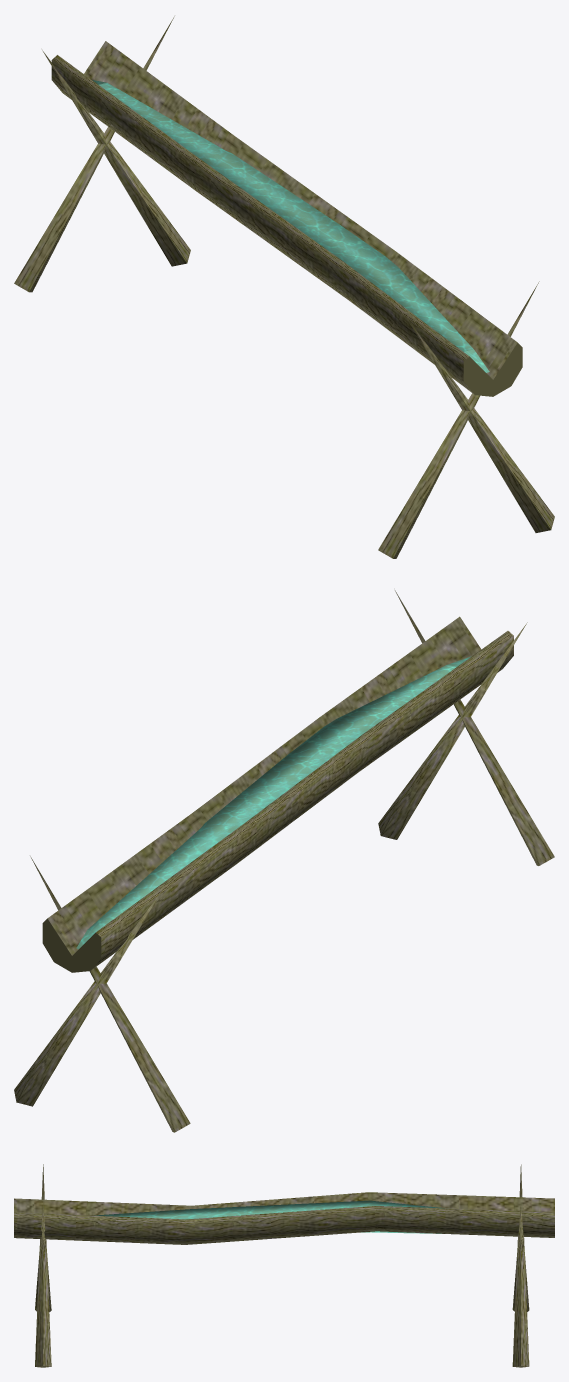
Rendered from waterpipe_full.obj.
The picture shows the model from 3 angles, top to bottom: view 1: azimuth 30°, elevation 25°; view 2: azimuth 150°, elevation 25°; view 3: azimuth 270°, elevation 25°; orthographic projection. The views are drawn at different scales.
Parts seen in each view (by area): view 1: Cylinder04, Cylinder05, Duplicate02, Box01, Duplicate01; view 2: Cylinder04, Cylinder05, Duplicate02, Box01, Duplicate01; view 3: Cylinder04, Cylinder05, Duplicate02, Box01, Duplicate01.
Part boxes in pixels (left/top/right/bottom): Cylinder04: left=51, top=41, right=522, bottom=396; Cylinder05: left=92, top=80, right=489, bottom=372; Duplicate02: left=378, top=281, right=554, bottom=558; Box01: left=42, top=50, right=190, bottom=266; Duplicate01: left=14, top=16, right=174, bottom=292; Cylinder04: left=42, top=616, right=513, bottom=972; Cylinder05: left=76, top=656, right=471, bottom=949; Duplicate02: left=378, top=590, right=554, bottom=865; Box01: left=14, top=889, right=162, bottom=1106; Duplicate01: left=30, top=856, right=190, bottom=1132; Cylinder04: left=14, top=1192, right=554, bottom=1244; Cylinder05: left=94, top=1200, right=444, bottom=1233; Duplicate02: left=35, top=1164, right=51, bottom=1367; Box01: left=512, top=1164, right=529, bottom=1367; Duplicate01: left=512, top=1205, right=529, bottom=1311.
Bounding box in the file's own units: 14.3 × 19.47 × 57.75.
